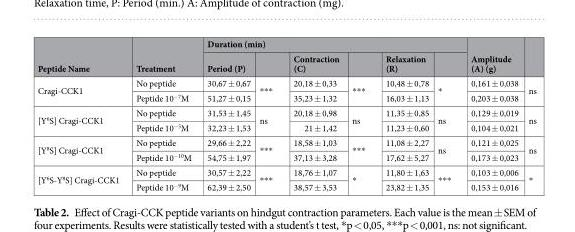table: (36, 37, 535, 192)
table column: (36, 37, 127, 192), (127, 37, 198, 192), (282, 37, 344, 192), (460, 37, 522, 192), (374, 37, 432, 192), (198, 37, 254, 192), (344, 37, 374, 192), (254, 37, 282, 192), (432, 37, 460, 192), (522, 37, 535, 192)
table column header: (36, 37, 535, 75)
table row: (36, 50, 535, 75), (36, 75, 535, 90), (36, 90, 535, 105), (36, 119, 535, 134), (36, 134, 535, 149), (36, 149, 535, 164), (36, 164, 535, 179), (36, 105, 535, 119), (36, 37, 535, 50), (36, 179, 535, 192)
table spanning cell: (36, 37, 127, 75), (198, 37, 460, 50), (36, 75, 127, 105), (36, 134, 127, 164), (127, 37, 198, 75), (36, 105, 127, 134), (36, 164, 127, 192), (460, 37, 522, 75), (344, 75, 374, 105), (344, 134, 374, 164), (344, 105, 374, 134), (254, 75, 282, 105), (432, 75, 460, 105), (254, 134, 282, 164), (432, 134, 460, 164), (344, 164, 374, 192), (254, 105, 282, 134), (432, 105, 460, 134), (254, 164, 282, 192), (432, 164, 460, 192), (522, 75, 535, 105), (522, 134, 535, 164), (522, 105, 535, 134), (522, 164, 535, 192)
